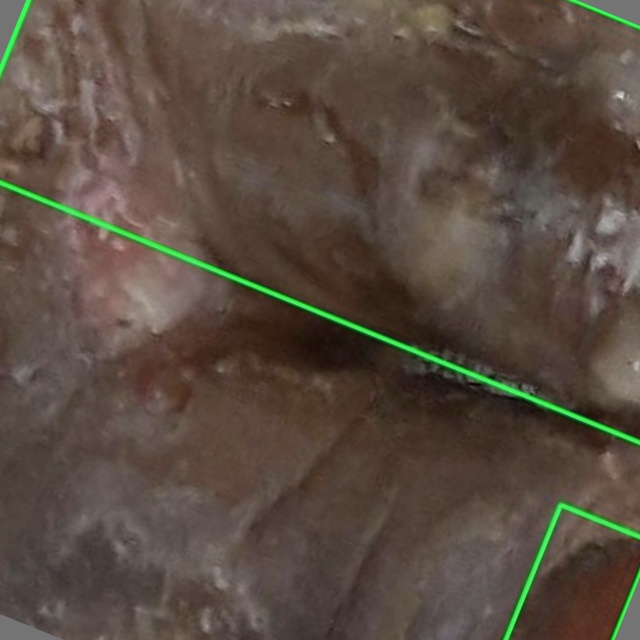Eczema: (0, 0, 639, 442)
